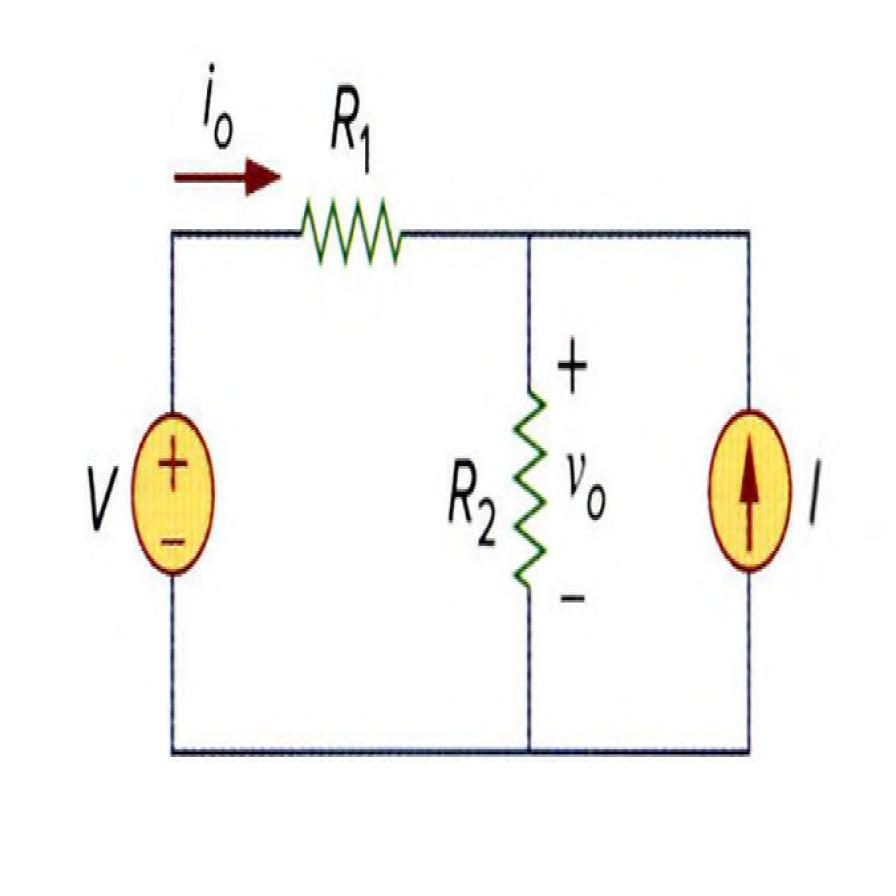I1: (701, 404, 800, 592)
R1: (298, 175, 408, 290)
R2: (506, 361, 546, 617)
V1: (121, 402, 224, 596)
